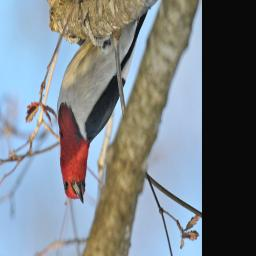Woodpecker: (52, 0, 155, 215)
